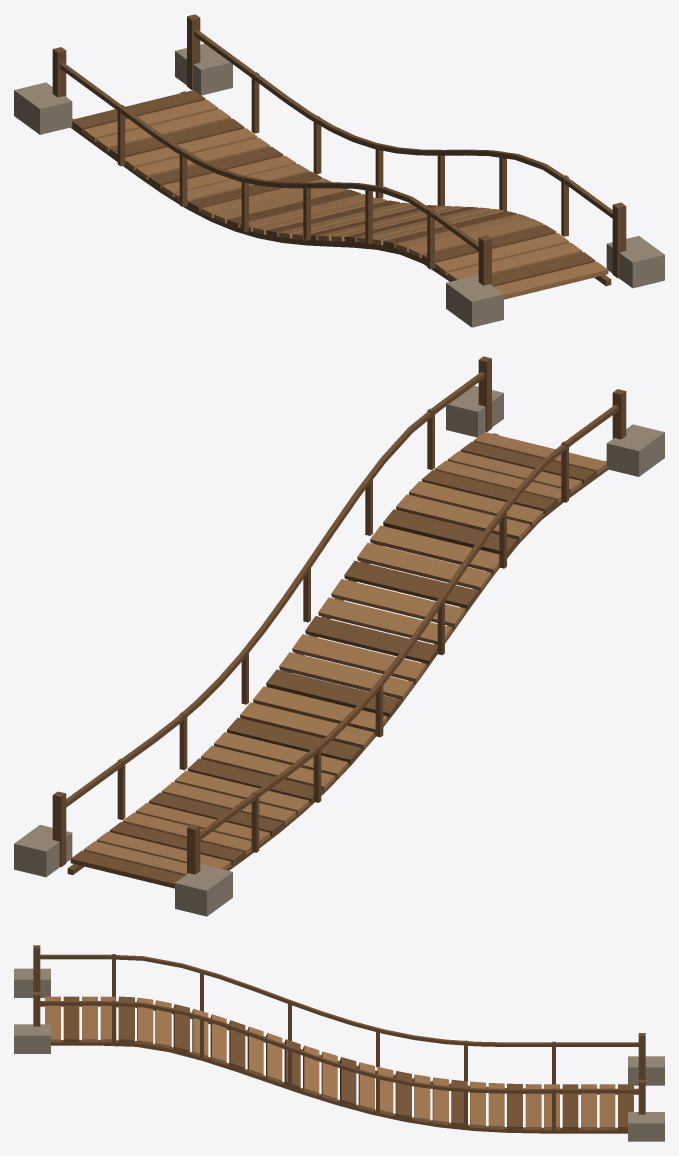
File: cau-2.glb
The picture shows the model from 3 angles, top to bottom: view 1: azimuth 30°, elevation 25°; view 2: azimuth 150°, elevation 25°; view 3: azimuth 270°, elevation 25°; orthographic projection. The views are drawn at different scales.
Parts seen in each view (by area): view 1: cau-2; view 2: cau-2; view 3: cau-2.
Boxes of the visible parts, bbox=[...] form: cau-2: bbox=[14, 14, 664, 327]; cau-2: bbox=[14, 356, 664, 916]; cau-2: bbox=[14, 945, 664, 1141].
Size of the model in its own units: 3.6 by 3.59 by 14.79.
1 material, 1 textured.
